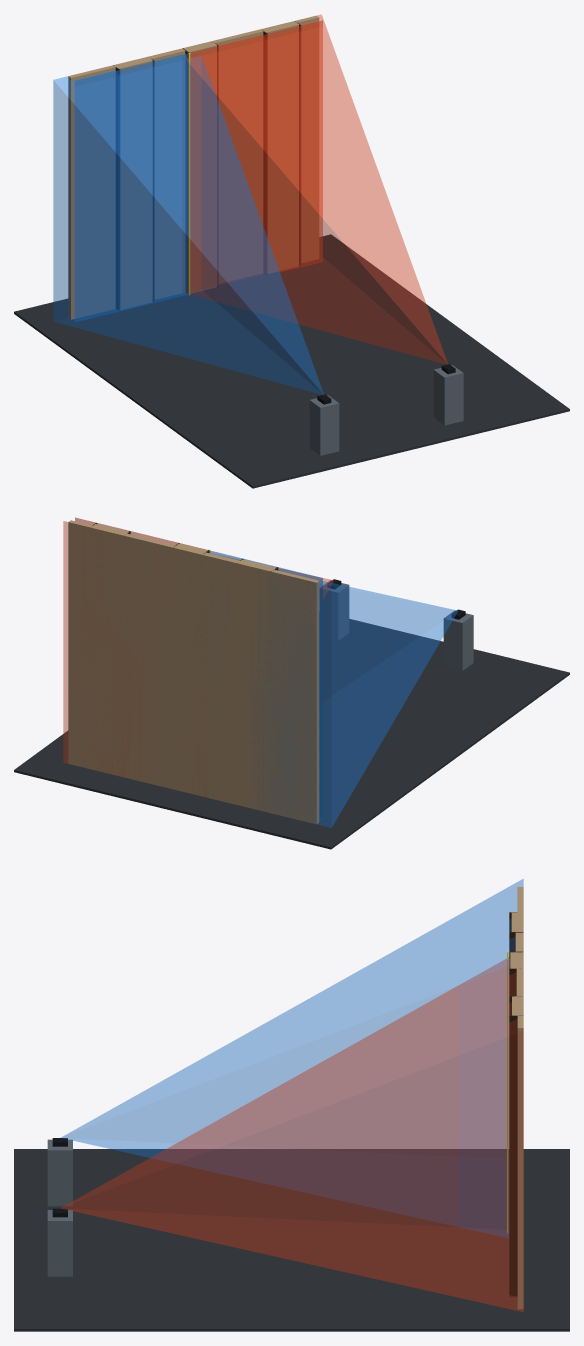
The model's file is MZ20K_Hardcut_Setup.dae.
The picture shows the model from 3 angles, top to bottom: view 1: azimuth 30°, elevation 25°; view 2: azimuth 150°, elevation 25°; view 3: azimuth 270°, elevation 25°; orthographic projection. The views are drawn at different scales.
Visible parts, largest first — view 1: Ground, PJ_L_Full_Optical_Beam, PJ_R_Full_Optical_Beam, ACTIVE_RIGHT_HARDCUT, ACTIVE_LEFT_HARDCUT, Facade_Bay_1, Facade_Bay_5, Facade_Bay_2, Facade_Bay_6, Facade_Bay_3, Facade_Bay_4, Facade_Bay_7 (+6 smaller); view 2: Ground, PJ_L_Full_Optical_Beam, Facade_Bay_5, Facade_Bay_1, Facade_Bay_2, Facade_Bay_3, Facade_Bay_6, Facade_Bay_4, Facade_Bay_7, PJ_R_Full_Optical_Beam, PJ_L_Tower, PJ_R_Tower (+1 smaller); view 3: Ground, PJ_R_Full_Optical_Beam, PJ_L_Full_Optical_Beam, Groove_6, Facade_Bay_7, PJ_L_Tower, PJ_R_Tower, HARDCUT_SEAM_GRID_16.
Part boxes in pixels (x1=…): Ground: x1=14, y1=234, x2=569, y2=488; PJ_L_Full_Optical_Beam: x1=53, y1=56, x2=323, y2=394; PJ_R_Full_Optical_Beam: x1=186, y1=14, x2=447, y2=364; ACTIVE_RIGHT_HARDCUT: x1=190, y1=20, x2=322, y2=291; ACTIVE_LEFT_HARDCUT: x1=74, y1=53, x2=188, y2=321; Facade_Bay_1: x1=68, y1=65, x2=115, y2=319; Facade_Bay_5: x1=212, y1=29, x2=263, y2=283; Facade_Bay_2: x1=114, y1=56, x2=152, y2=309; Facade_Bay_6: x1=261, y1=21, x2=298, y2=273; Facade_Bay_3: x1=148, y1=48, x2=185, y2=299; Facade_Bay_4: x1=183, y1=41, x2=216, y2=292; Facade_Bay_7: x1=295, y1=15, x2=319, y2=262; Ground: x1=14, y1=619, x2=569, y2=849; PJ_L_Full_Optical_Beam: x1=199, y1=573, x2=457, y2=827; Facade_Bay_5: x1=124, y1=533, x2=175, y2=789; Facade_Bay_1: x1=271, y1=569, x2=319, y2=824; Facade_Bay_2: x1=237, y1=559, x2=275, y2=813; Facade_Bay_3: x1=202, y1=552, x2=239, y2=804; Facade_Bay_6: x1=90, y1=524, x2=128, y2=777; Facade_Bay_4: x1=173, y1=543, x2=207, y2=796; Facade_Bay_7: x1=68, y1=520, x2=92, y2=768; PJ_R_Full_Optical_Beam: x1=63, y1=521, x2=333, y2=796; PJ_L_Tower: x1=443, y1=610, x2=473, y2=670; PJ_R_Tower: x1=320, y1=580, x2=349, y2=640; Ground: x1=14, y1=1149, x2=569, y2=1331; PJ_R_Full_Optical_Beam: x1=61, y1=958, x2=523, y2=1311; PJ_L_Full_Optical_Beam: x1=61, y1=879, x2=523, y2=1237; Groove_6: x1=509, y1=1015, x2=522, y2=1297; Facade_Bay_7: x1=517, y1=1015, x2=523, y2=1309; PJ_L_Tower: x1=47, y1=1139, x2=72, y2=1206; PJ_R_Tower: x1=47, y1=1210, x2=72, y2=1276; HARDCUT_SEAM_GRID_16: x1=507, y1=951, x2=508, y2=1233.
Size of the model in its own units: 18.4 by 24 by 13.52.
